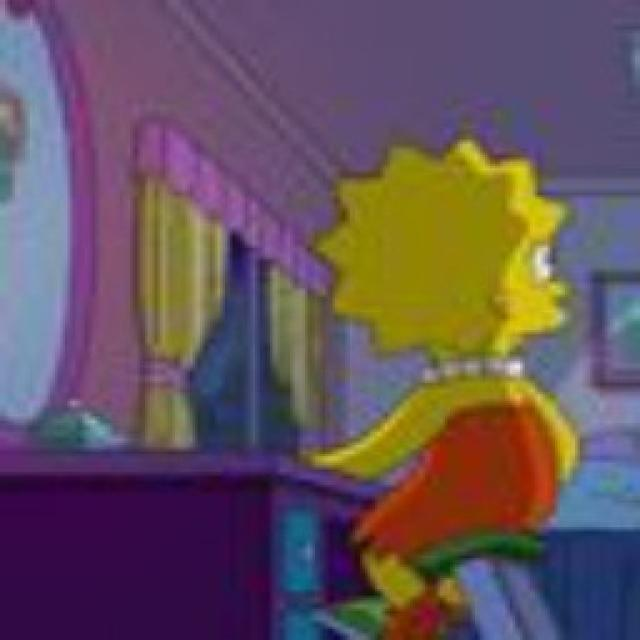Lisa Simpson: (308, 133, 588, 372)
